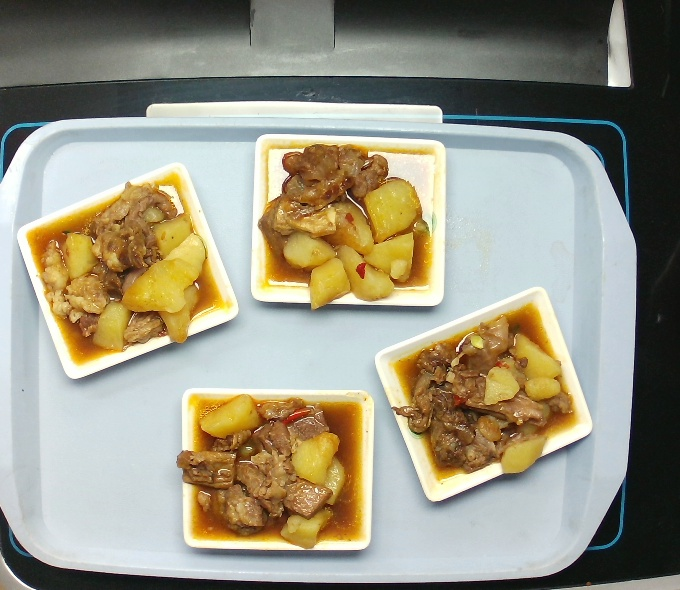wcq-TuDouNiuNan: (18, 168, 237, 372), (387, 302, 584, 482), (251, 134, 438, 317), (182, 392, 367, 549)
